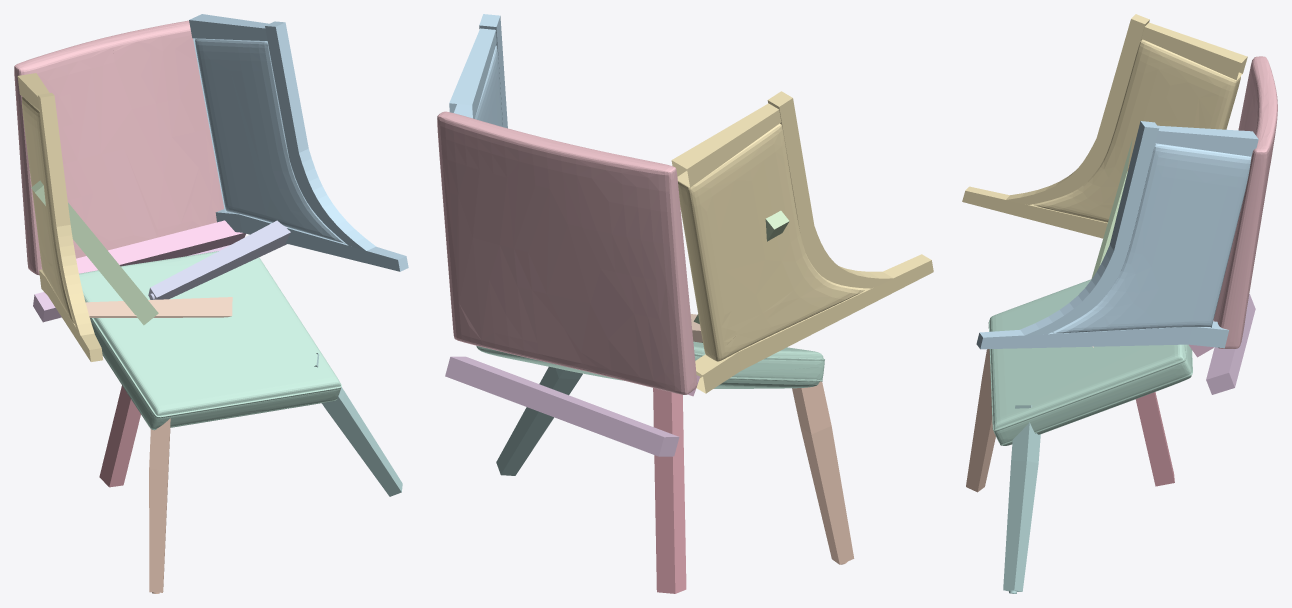
Rendered from 0c409bce_colored.glb.
3 renders of one model, left to right at view 1: azimuth 30°, elevation 25°; view 2: azimuth 150°, elevation 25°; view 3: azimuth 270°, elevation 25°, orthographic. The views are drawn at different scales.
Parts seen in each view (by area): view 1: world; view 2: world; view 3: world.
Boxes of the visible parts, left/top/right/bottom form: world: left=14, top=14, right=408, bottom=593; world: left=437, top=14, right=933, bottom=593; world: left=962, top=14, right=1277, bottom=593.
Size of the model in its own units: 1.72 by 2.25 by 1.37.
